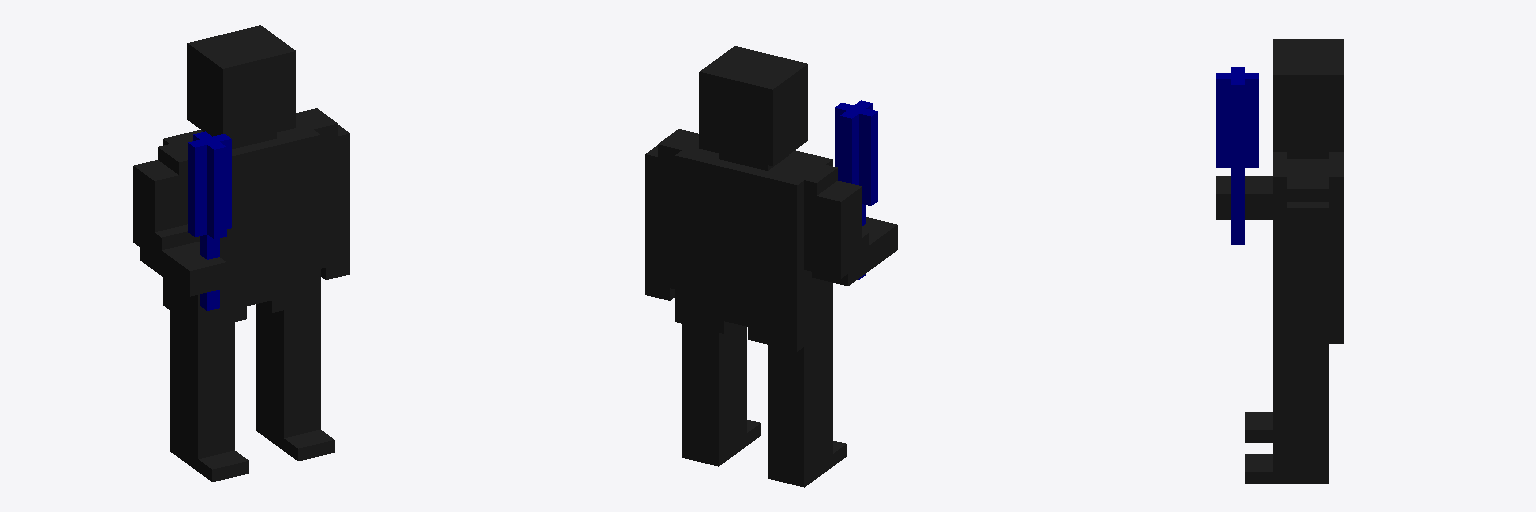
The picture shows the model from 3 angles: view 1: azimuth 30°, elevation 25°; view 2: azimuth 150°, elevation 25°; view 3: azimuth 270°, elevation 25°; orthographic projection.
Visible parts, largest first — view 1: object 1; view 2: object 1; view 3: object 1.
Boxes of the visible parts, box(x1,y1,x2,y2) form: object 1: box(133, 25, 349, 481); object 1: box(645, 46, 897, 487); object 1: box(1216, 39, 1343, 483).
Bounding box in the file's own units: 1.6 × 3.1 × 0.9.
Materials: 1 (1 with a texture image).